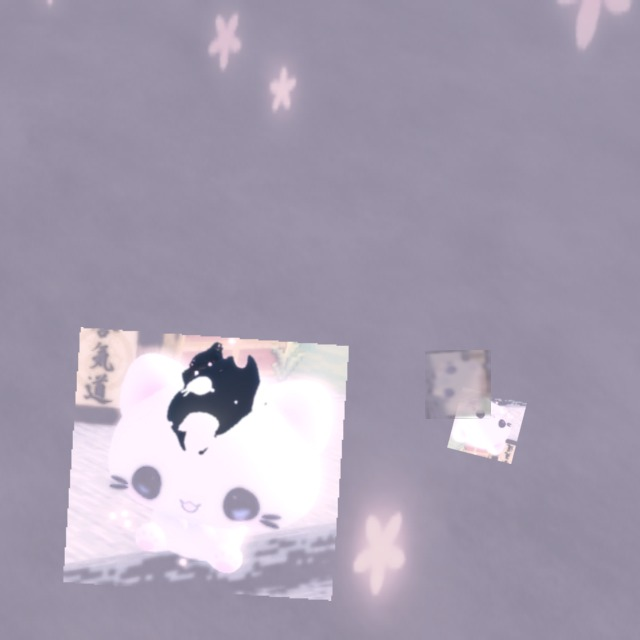urso_branco: (62, 327, 350, 601), (447, 387, 527, 464), (425, 350, 491, 419)
urso_preto: (124, 308, 302, 487)
